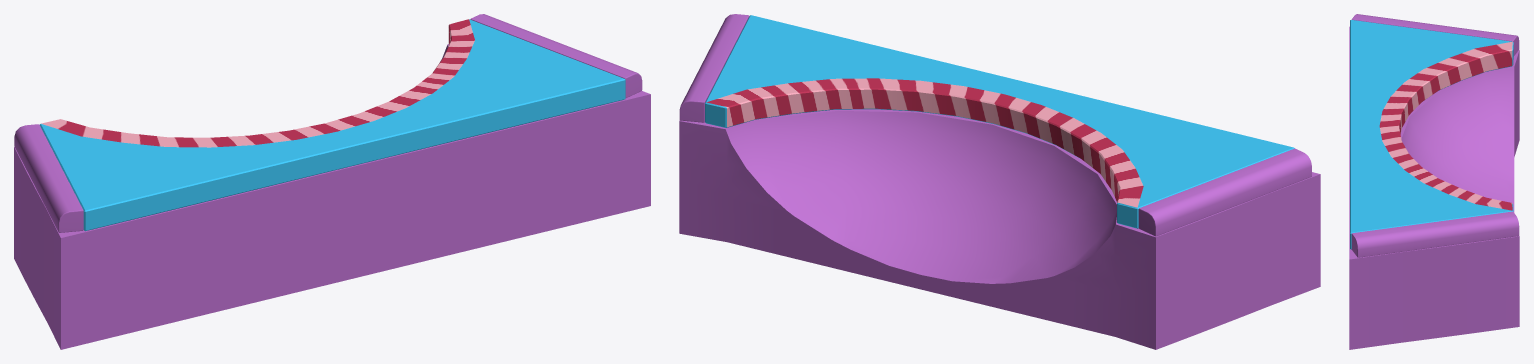
File: PLF0110034.fbx
3 views of the same model, side by side, from view 1: azimuth 30°, elevation 25°; view 2: azimuth 150°, elevation 25°; view 3: azimuth 270°, elevation 25° (orthographic). The views are drawn at different scales.
Parts seen in each view (by area): view 1: smPLF0110034; view 2: smPLF0110034; view 3: smPLF0110034.
Boxes of the visible parts, x1=… form: smPLF0110034: x1=14, y1=14, x2=650, y2=349; smPLF0110034: x1=679, y1=14, x2=1320, y2=349; smPLF0110034: x1=1349, y1=14, x2=1519, y2=349.
Bounding box in the file's own units: 1126 × 242 × 348.
Materials: 1 (1 with a texture image).
